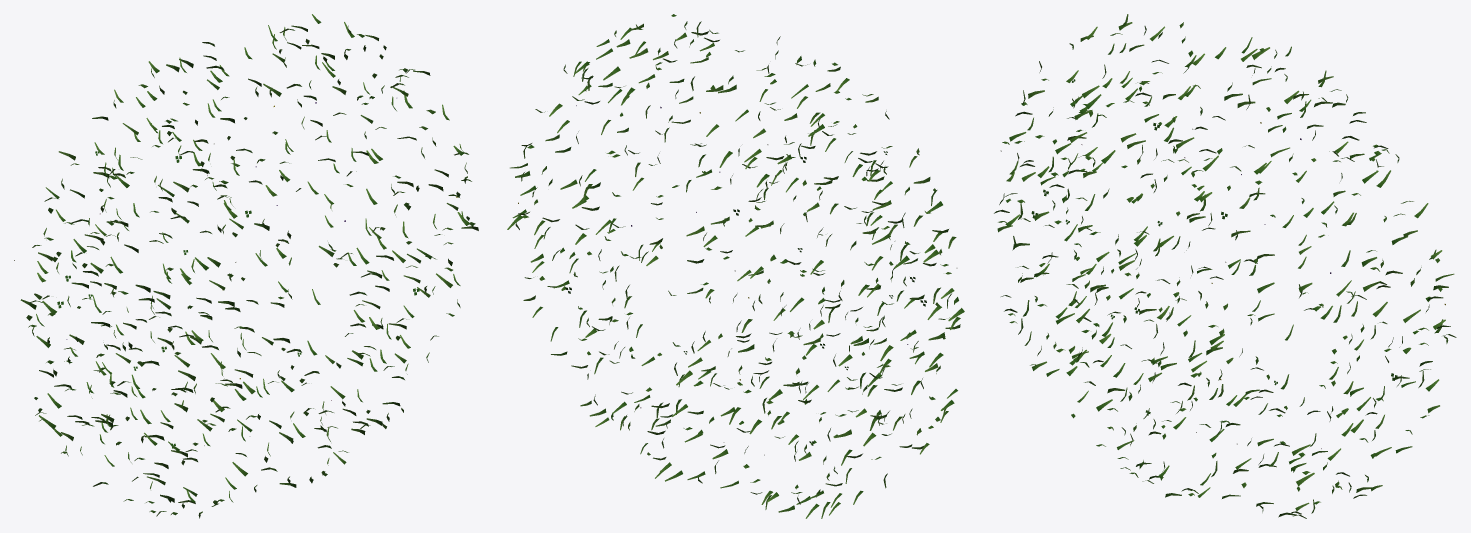
The model's file is Grass_Tile_Waterside.glb.
The picture shows the model from 3 angles, left to right: view 1: azimuth 30°, elevation 25°; view 2: azimuth 150°, elevation 25°; view 3: azimuth 330°, elevation 25°; orthographic projection.
Visible parts, largest first — view 1: Grass_Tile_Waterside; view 2: Grass_Tile_Waterside; view 3: Grass_Tile_Waterside.
Part boxes in pixels (<box>): Grass_Tile_Waterside: <box>14,14,478,518</box>; Grass_Tile_Waterside: <box>507,14,964,518</box>; Grass_Tile_Waterside: <box>994,14,1456,518</box>.
Bounding box in the file's own units: 1.77 × 1.76 × 0.0879.
